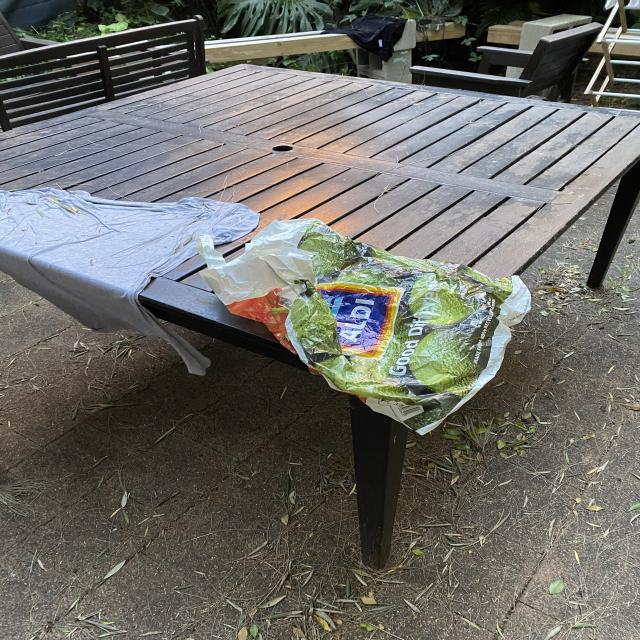bag: (192, 217, 533, 434)
cloth: (0, 187, 260, 376)
